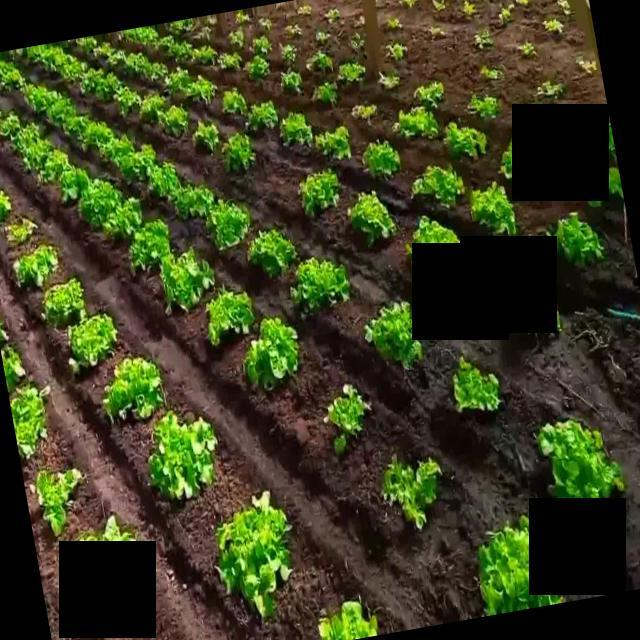Lettuce: (211, 488, 293, 624), (476, 512, 568, 616), (533, 417, 627, 500), (147, 411, 218, 504), (382, 454, 443, 528), (244, 316, 301, 392), (102, 355, 163, 424), (366, 300, 424, 370), (159, 247, 215, 312), (325, 382, 369, 457), (290, 258, 351, 312), (35, 466, 79, 536), (452, 354, 503, 412), (550, 212, 604, 266), (68, 313, 119, 369), (207, 287, 256, 345), (317, 597, 383, 640), (9, 386, 46, 462), (468, 181, 518, 236), (410, 162, 468, 208), (247, 227, 297, 280), (348, 189, 396, 244), (297, 166, 343, 219), (405, 213, 463, 253), (211, 200, 252, 252), (128, 218, 171, 266), (42, 277, 85, 325), (79, 178, 124, 223), (13, 244, 59, 288), (442, 120, 488, 158), (106, 197, 144, 240), (392, 106, 442, 138), (174, 184, 216, 221), (117, 145, 156, 183), (220, 133, 256, 174), (362, 140, 401, 177), (147, 162, 183, 200), (60, 162, 91, 205), (314, 125, 352, 159), (279, 111, 313, 148), (0, 342, 25, 388), (12, 120, 42, 158), (246, 101, 279, 133), (26, 134, 52, 173), (157, 106, 189, 136), (192, 120, 221, 153), (412, 80, 444, 109), (187, 75, 219, 104), (604, 164, 629, 201), (220, 86, 248, 119), (100, 136, 135, 162), (61, 112, 91, 142), (82, 119, 112, 149), (162, 66, 190, 98), (466, 94, 500, 120), (116, 85, 142, 119), (44, 149, 68, 185), (6, 218, 39, 243), (138, 93, 167, 120), (46, 98, 76, 123), (40, 45, 66, 73), (96, 73, 121, 102), (60, 61, 88, 86), (305, 50, 334, 74), (245, 56, 272, 80), (125, 50, 148, 78), (0, 62, 23, 90), (78, 66, 99, 96), (338, 62, 366, 84), (312, 82, 340, 104), (33, 88, 55, 116), (350, 103, 379, 124), (89, 40, 112, 66), (140, 62, 164, 85), (218, 50, 242, 72), (166, 16, 195, 34), (191, 45, 217, 65), (0, 109, 19, 136), (377, 72, 402, 91), (281, 71, 302, 93), (135, 26, 160, 44), (0, 186, 13, 220), (109, 50, 128, 73), (252, 34, 272, 55), (278, 40, 298, 61), (170, 42, 191, 62), (74, 36, 95, 56), (156, 34, 176, 52), (228, 28, 245, 48)
